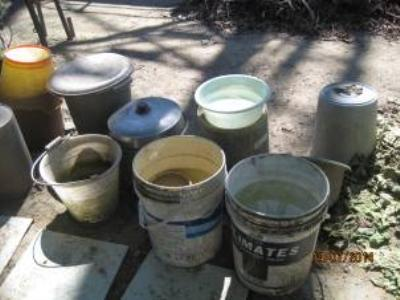bowl: (192, 72, 271, 130)
bucket: (225, 152, 331, 297), (132, 134, 226, 268), (38, 132, 124, 226), (309, 78, 381, 172), (1, 43, 63, 108)
